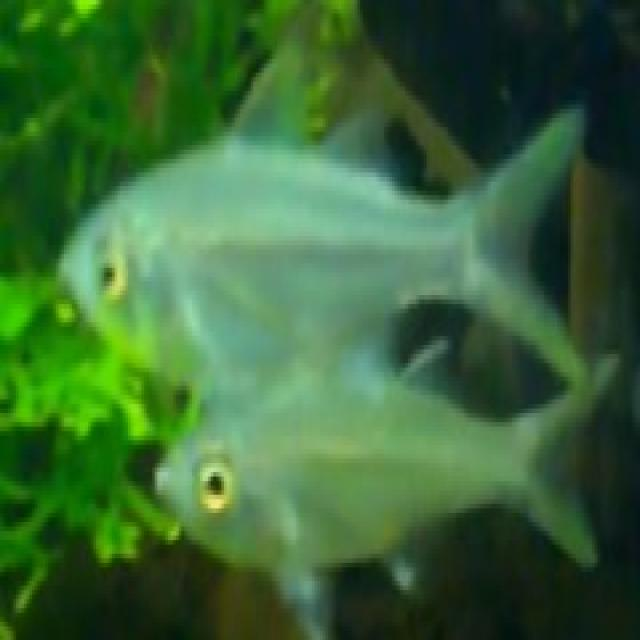Glass-Perchlet: (16, 44, 613, 395), (136, 313, 624, 625)
